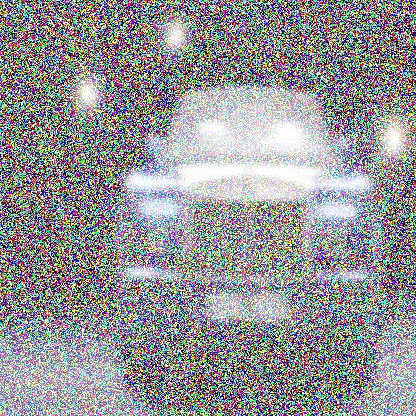Vehicle: (113, 82, 385, 395)
